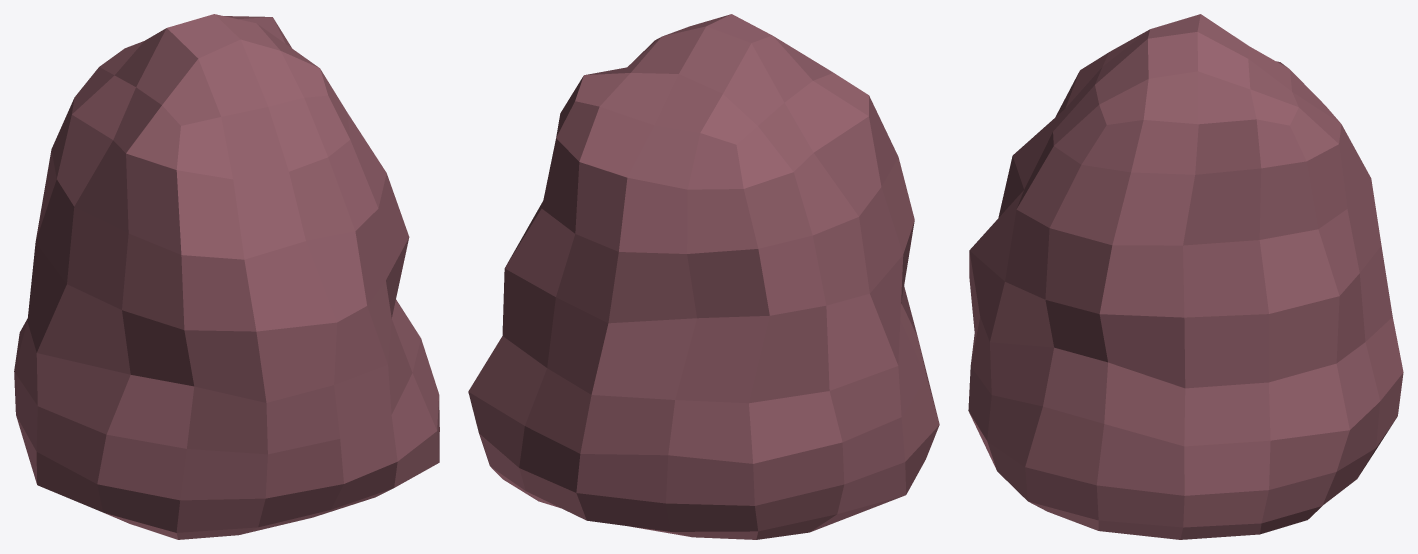
Rendered from Rock_02_Lod1.fbx.
3 views of the same model, side by side, from view 1: azimuth 30°, elevation 25°; view 2: azimuth 150°, elevation 25°; view 3: azimuth 270°, elevation 25° (orthographic). The views are drawn at different scales.
Parts seen in each view (by area): view 1: Rock_02_Lod1; view 2: Rock_02_Lod1; view 3: Rock_02_Lod1.
Part boxes in pixels (x1,y1,x2,y2): Rock_02_Lod1: [14, 14, 439, 539]; Rock_02_Lod1: [468, 14, 939, 539]; Rock_02_Lod1: [968, 14, 1403, 539].
Size of the model in its own units: 350 by 396 by 358.
